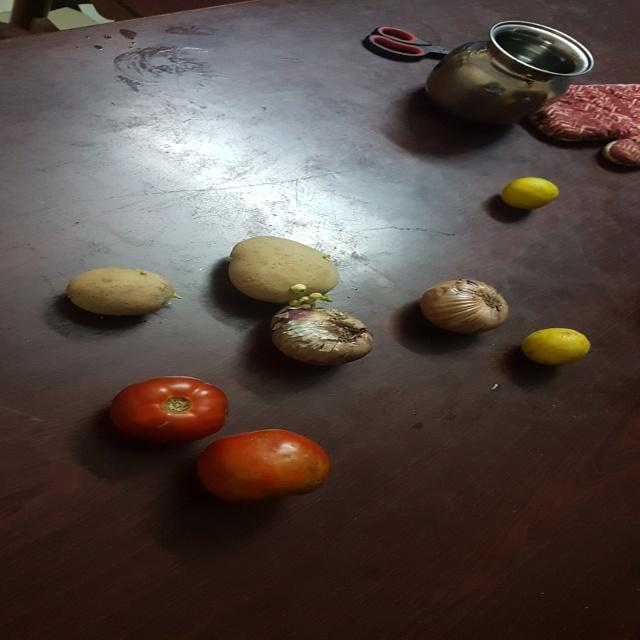lemon: (515, 322, 591, 367), (496, 170, 559, 210)
onion: (266, 303, 378, 368), (420, 276, 512, 336)
potato: (227, 234, 341, 305), (62, 265, 181, 320)
tomato: (198, 426, 333, 495), (103, 374, 228, 437)
